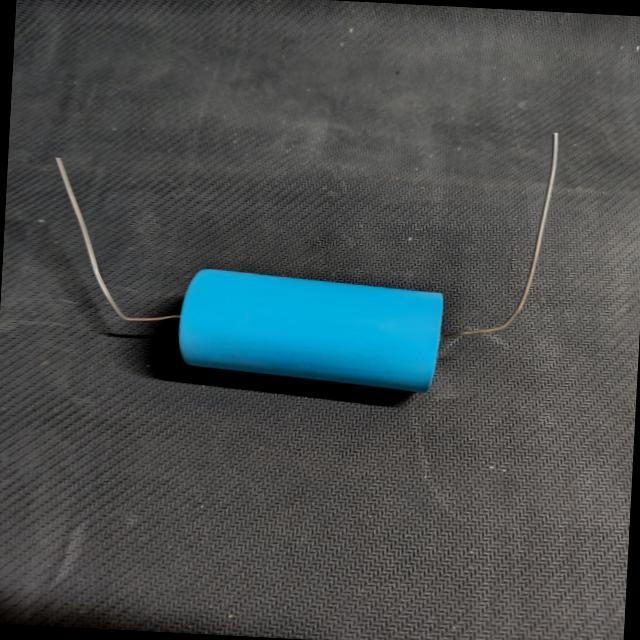capacitor: (28, 100, 574, 411)
